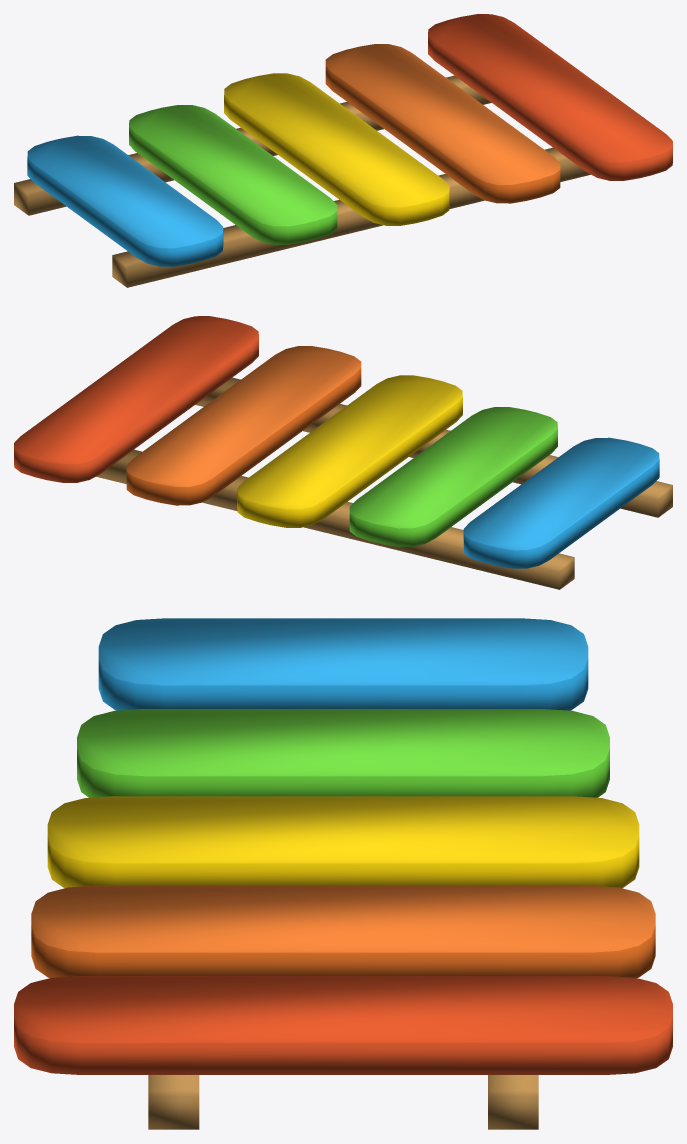
File: ENV2010019.fbx
3 renders of one model, top to bottom at view 1: azimuth 30°, elevation 25°; view 2: azimuth 150°, elevation 25°; view 3: azimuth 270°, elevation 25°, orthographic. The views are drawn at different scales.
Parts seen in each view (by area): view 1: smENV2010019; view 2: smENV2010019; view 3: smENV2010019.
Part boxes in pixels (x1,y1,x2,y2): smENV2010019: (14, 14, 672, 287); smENV2010019: (14, 316, 672, 589); smENV2010019: (14, 618, 672, 1129).
Bounding box in the file's own units: 23.44 × 1.71 × 14.41.
1 material, 1 textured.
